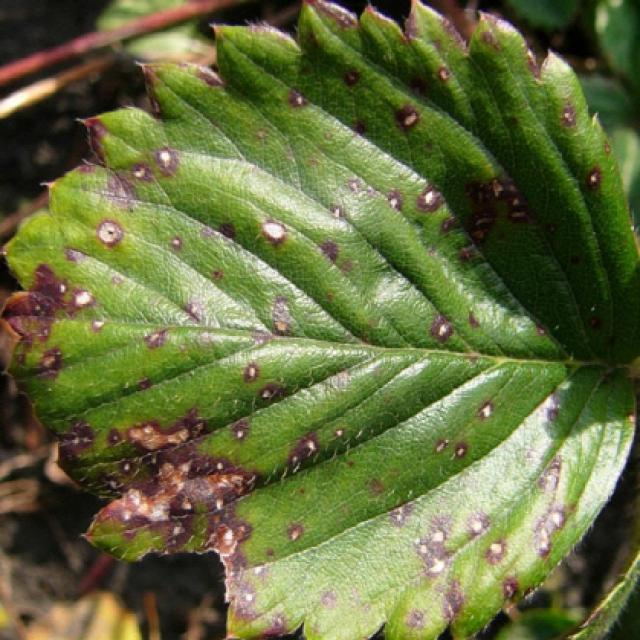Leaf Spot: (0, 0, 638, 638)
